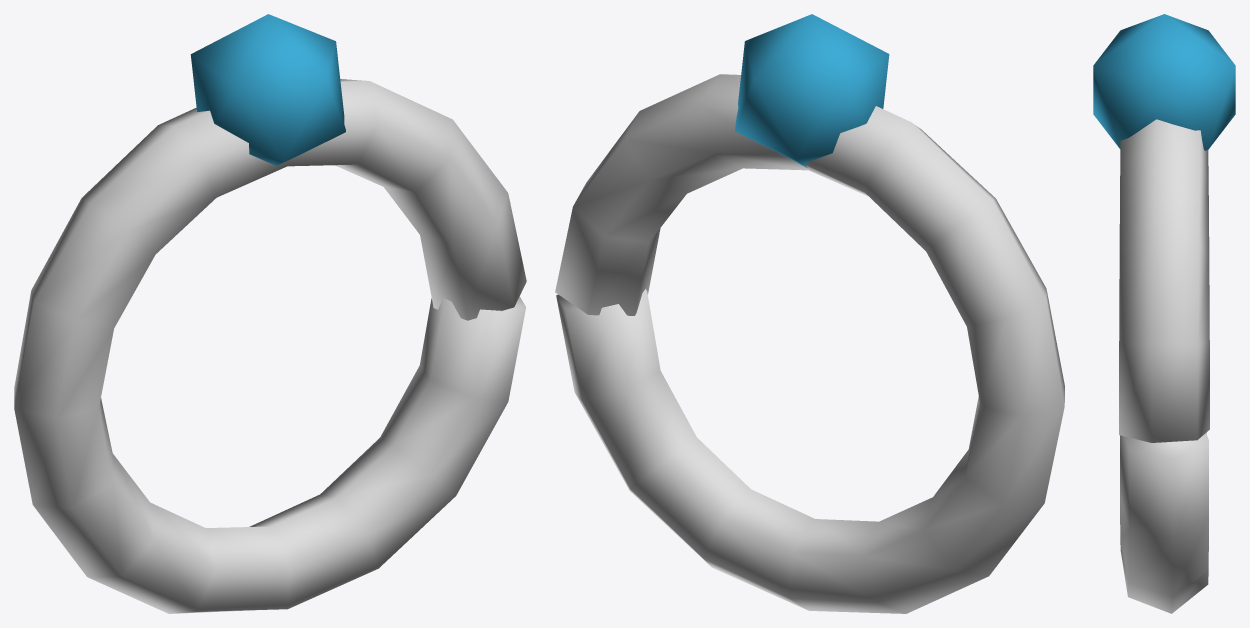
Rendered from angler_earring.glb.
3 views of the same model, side by side, from view 1: azimuth 30°, elevation 25°; view 2: azimuth 150°, elevation 25°; view 3: azimuth 270°, elevation 25° (orthographic). The views are drawn at different scales.
Visible parts, largest first — view 1: angler_earring_v0; view 2: angler_earring_v0; view 3: angler_earring_v0.
Part boxes in pixels (<box>): angler_earring_v0: <box>14,14,526,613</box>; angler_earring_v0: <box>555,14,1064,613</box>; angler_earring_v0: <box>1093,14,1235,613</box>.
Bounding box in the file's own units: 0.1674 × 0.1889 × 0.0425.
